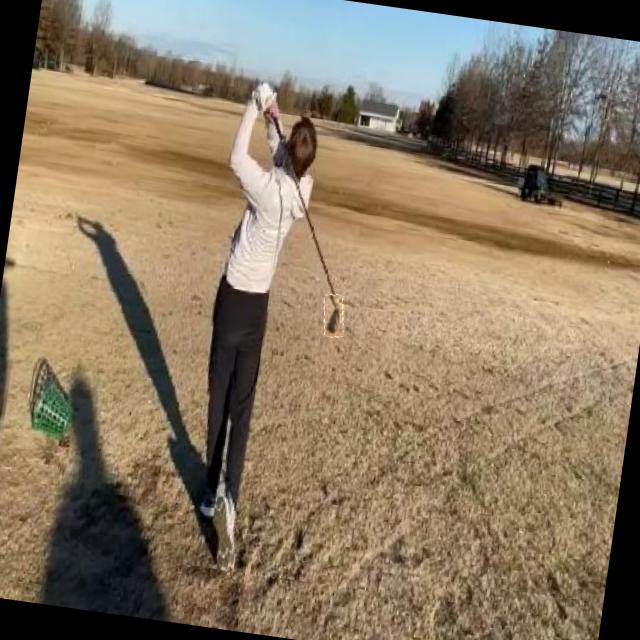club head: (321, 294, 346, 338)
